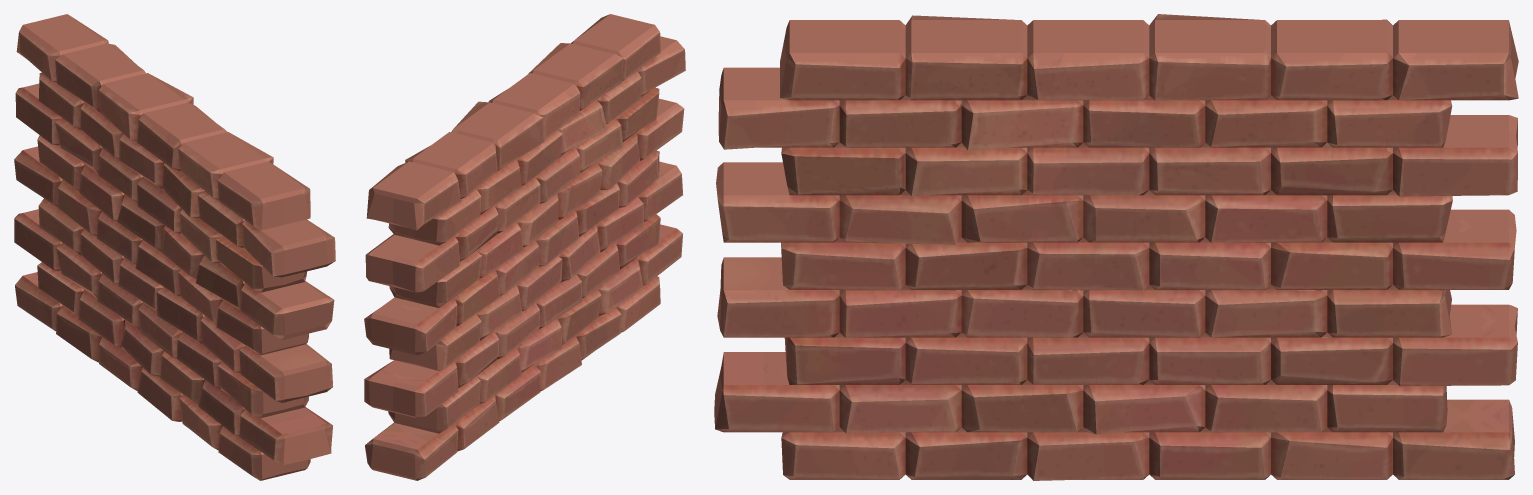
Rendered from Wall.fbx.
3 views of the same model, side by side, from view 1: azimuth 30°, elevation 25°; view 2: azimuth 150°, elevation 25°; view 3: azimuth 270°, elevation 25° (orthographic). The views are drawn at different scales.
Visible parts, largest first — view 1: Cube.002; view 2: Cube.002; view 3: Cube.002.
Part boxes in pixels (<box>): Cube.002: <box>14,14,335,480</box>; Cube.002: <box>364,14,685,480</box>; Cube.002: <box>714,14,1518,480</box>.
Size of the model in its own units: 88.58 by 356 by 608.
